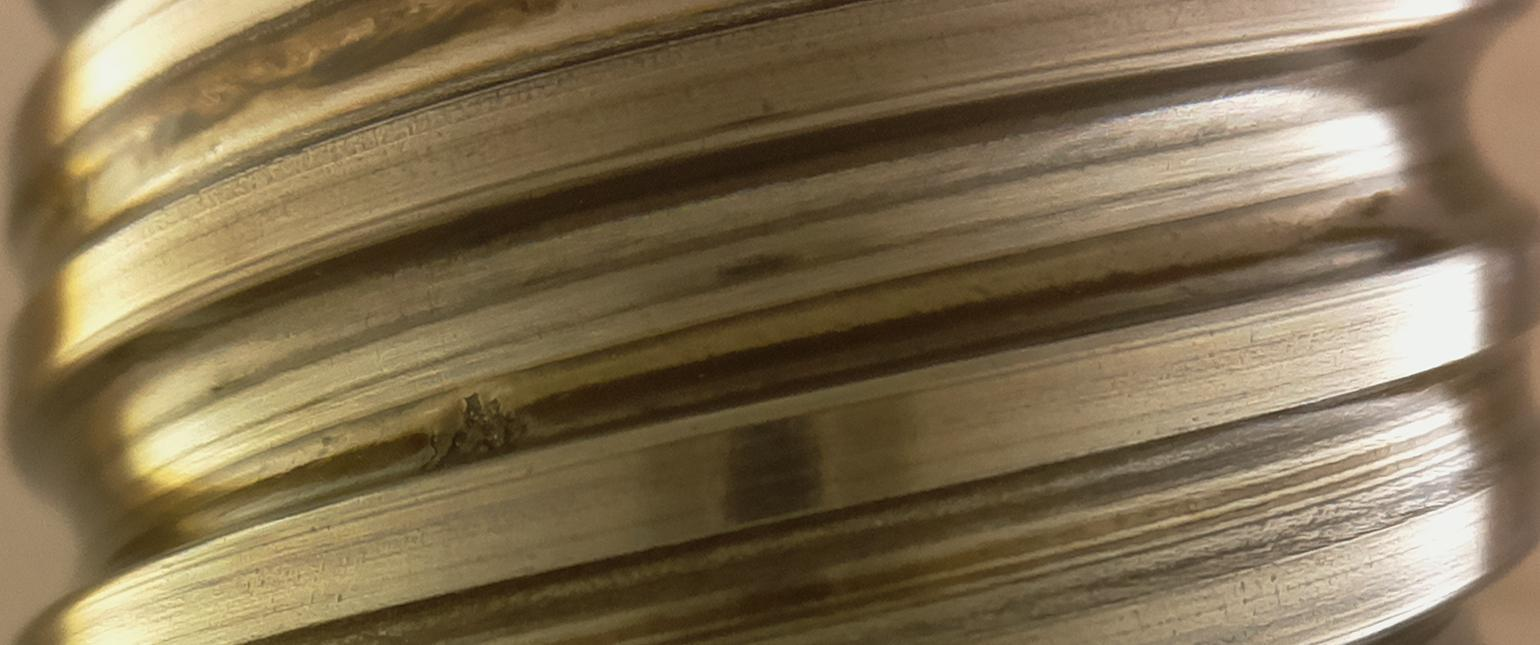pitting: (421, 392, 528, 472)
